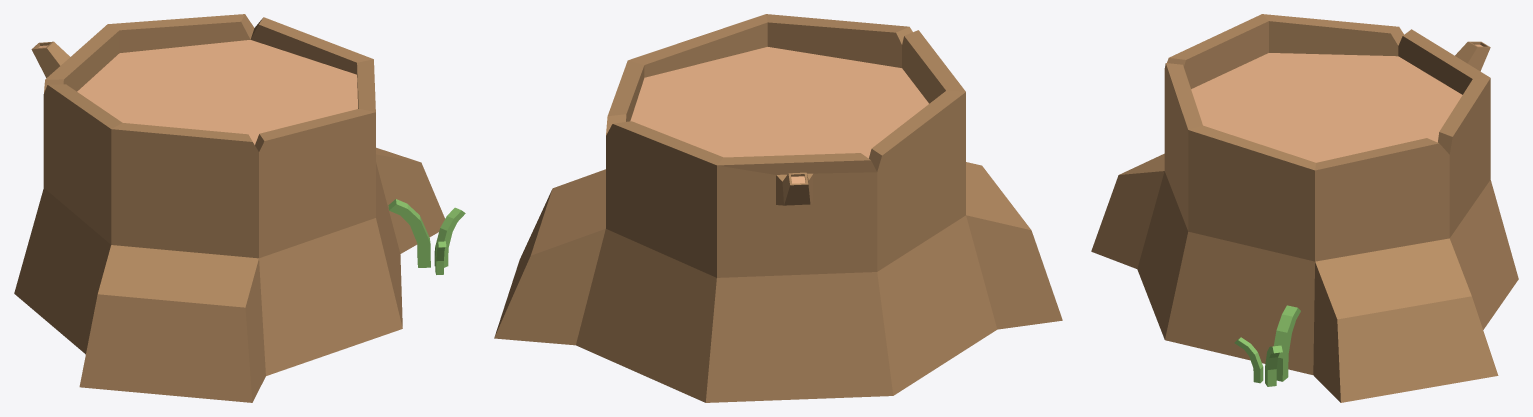
The model's file is tocon.fbx.
3 renders of one model, left to right at view 1: azimuth 30°, elevation 25°; view 2: azimuth 150°, elevation 25°; view 3: azimuth 270°, elevation 25°, orthographic. The views are drawn at different scales.
Parts seen in each view (by area): view 1: Tocon; view 2: Tocon; view 3: Tocon.
Part boxes in pixels (left/top/right/bottom): Tocon: left=14, top=14, right=465, bottom=402; Tocon: left=494, top=14, right=1062, bottom=402; Tocon: left=1091, top=14, right=1518, bottom=402.
Bounding box in the file's own units: 83.38 × 95.17 × 46.04.
1 material, 1 textured.
